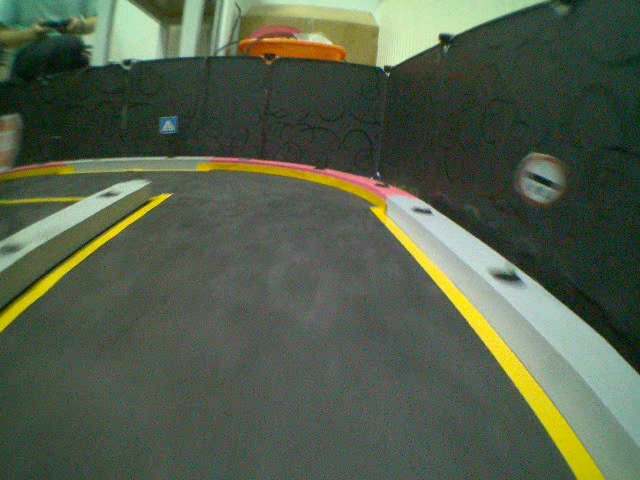Check: (514, 151, 568, 207)
crossing: (157, 114, 177, 135)
